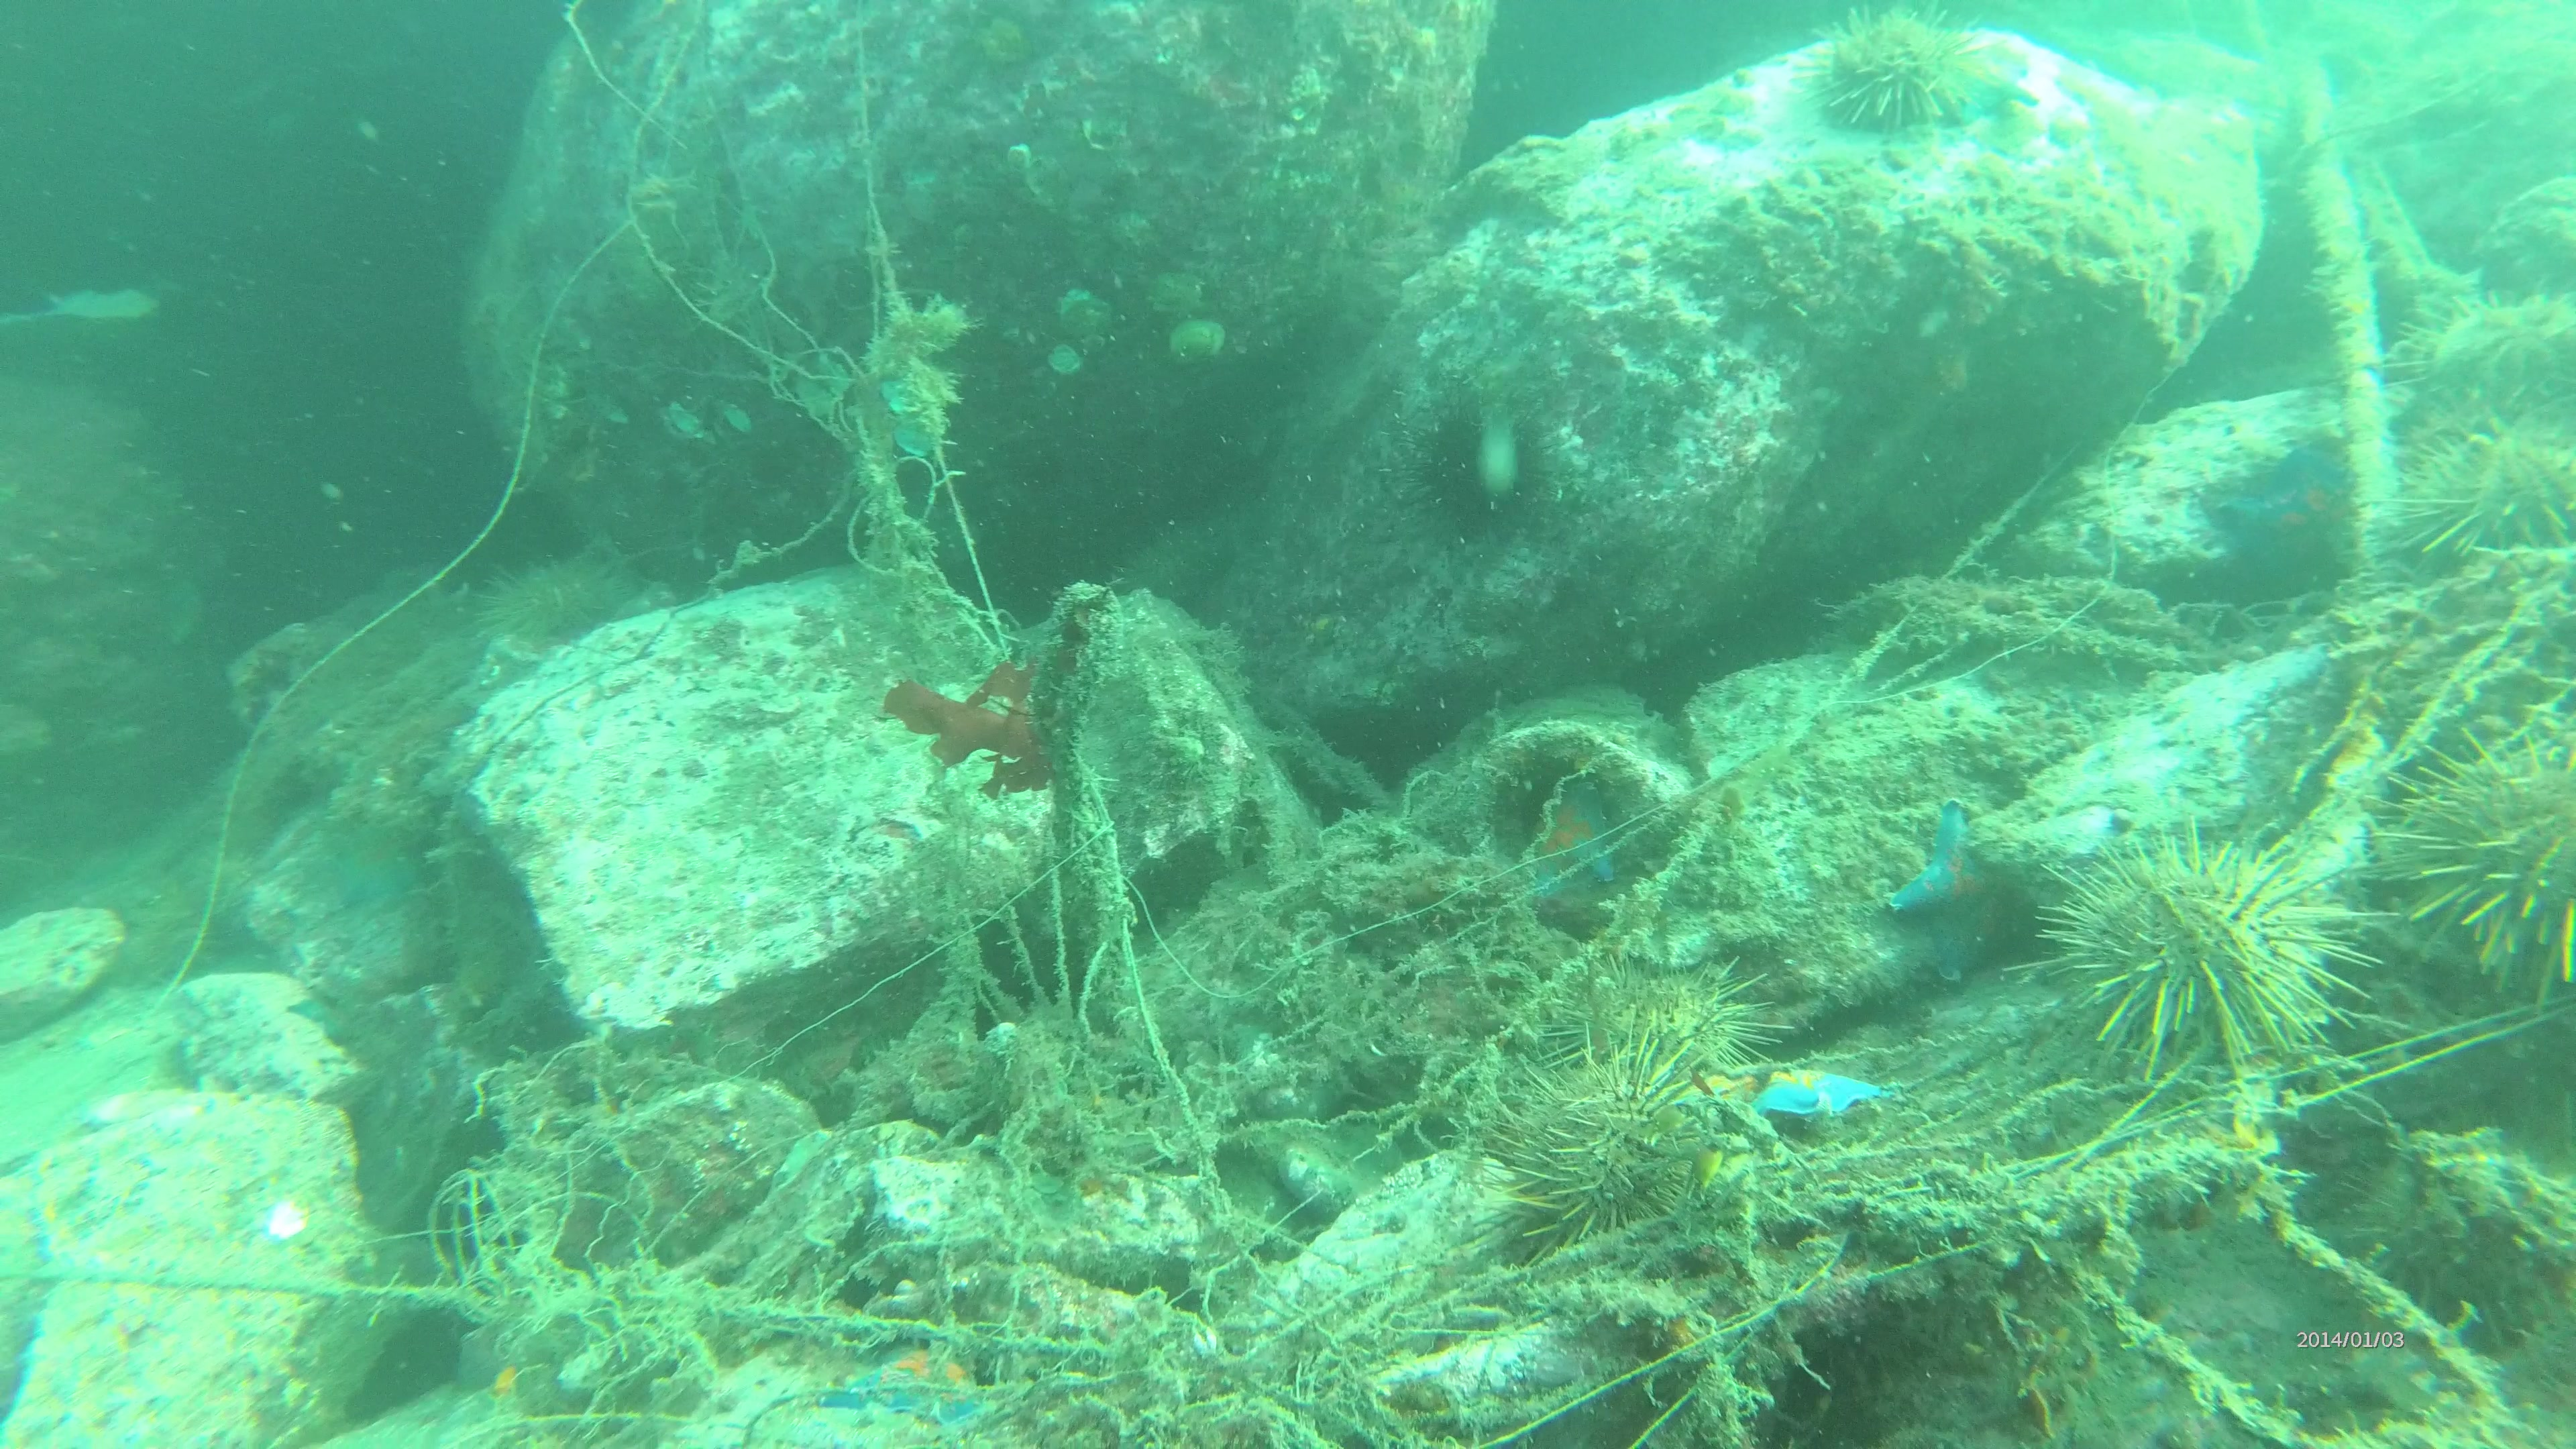echinus: (2047, 842, 2335, 1097), (1499, 1054, 1736, 1265), (2411, 731, 2574, 1012), (1591, 957, 1773, 1097), (1819, 5, 1974, 142), (1417, 403, 1545, 536)
starfish: (1895, 809, 2029, 982), (826, 1334, 1001, 1433), (1516, 775, 1617, 911), (1748, 1058, 1888, 1129), (1936, 34, 2035, 122)
